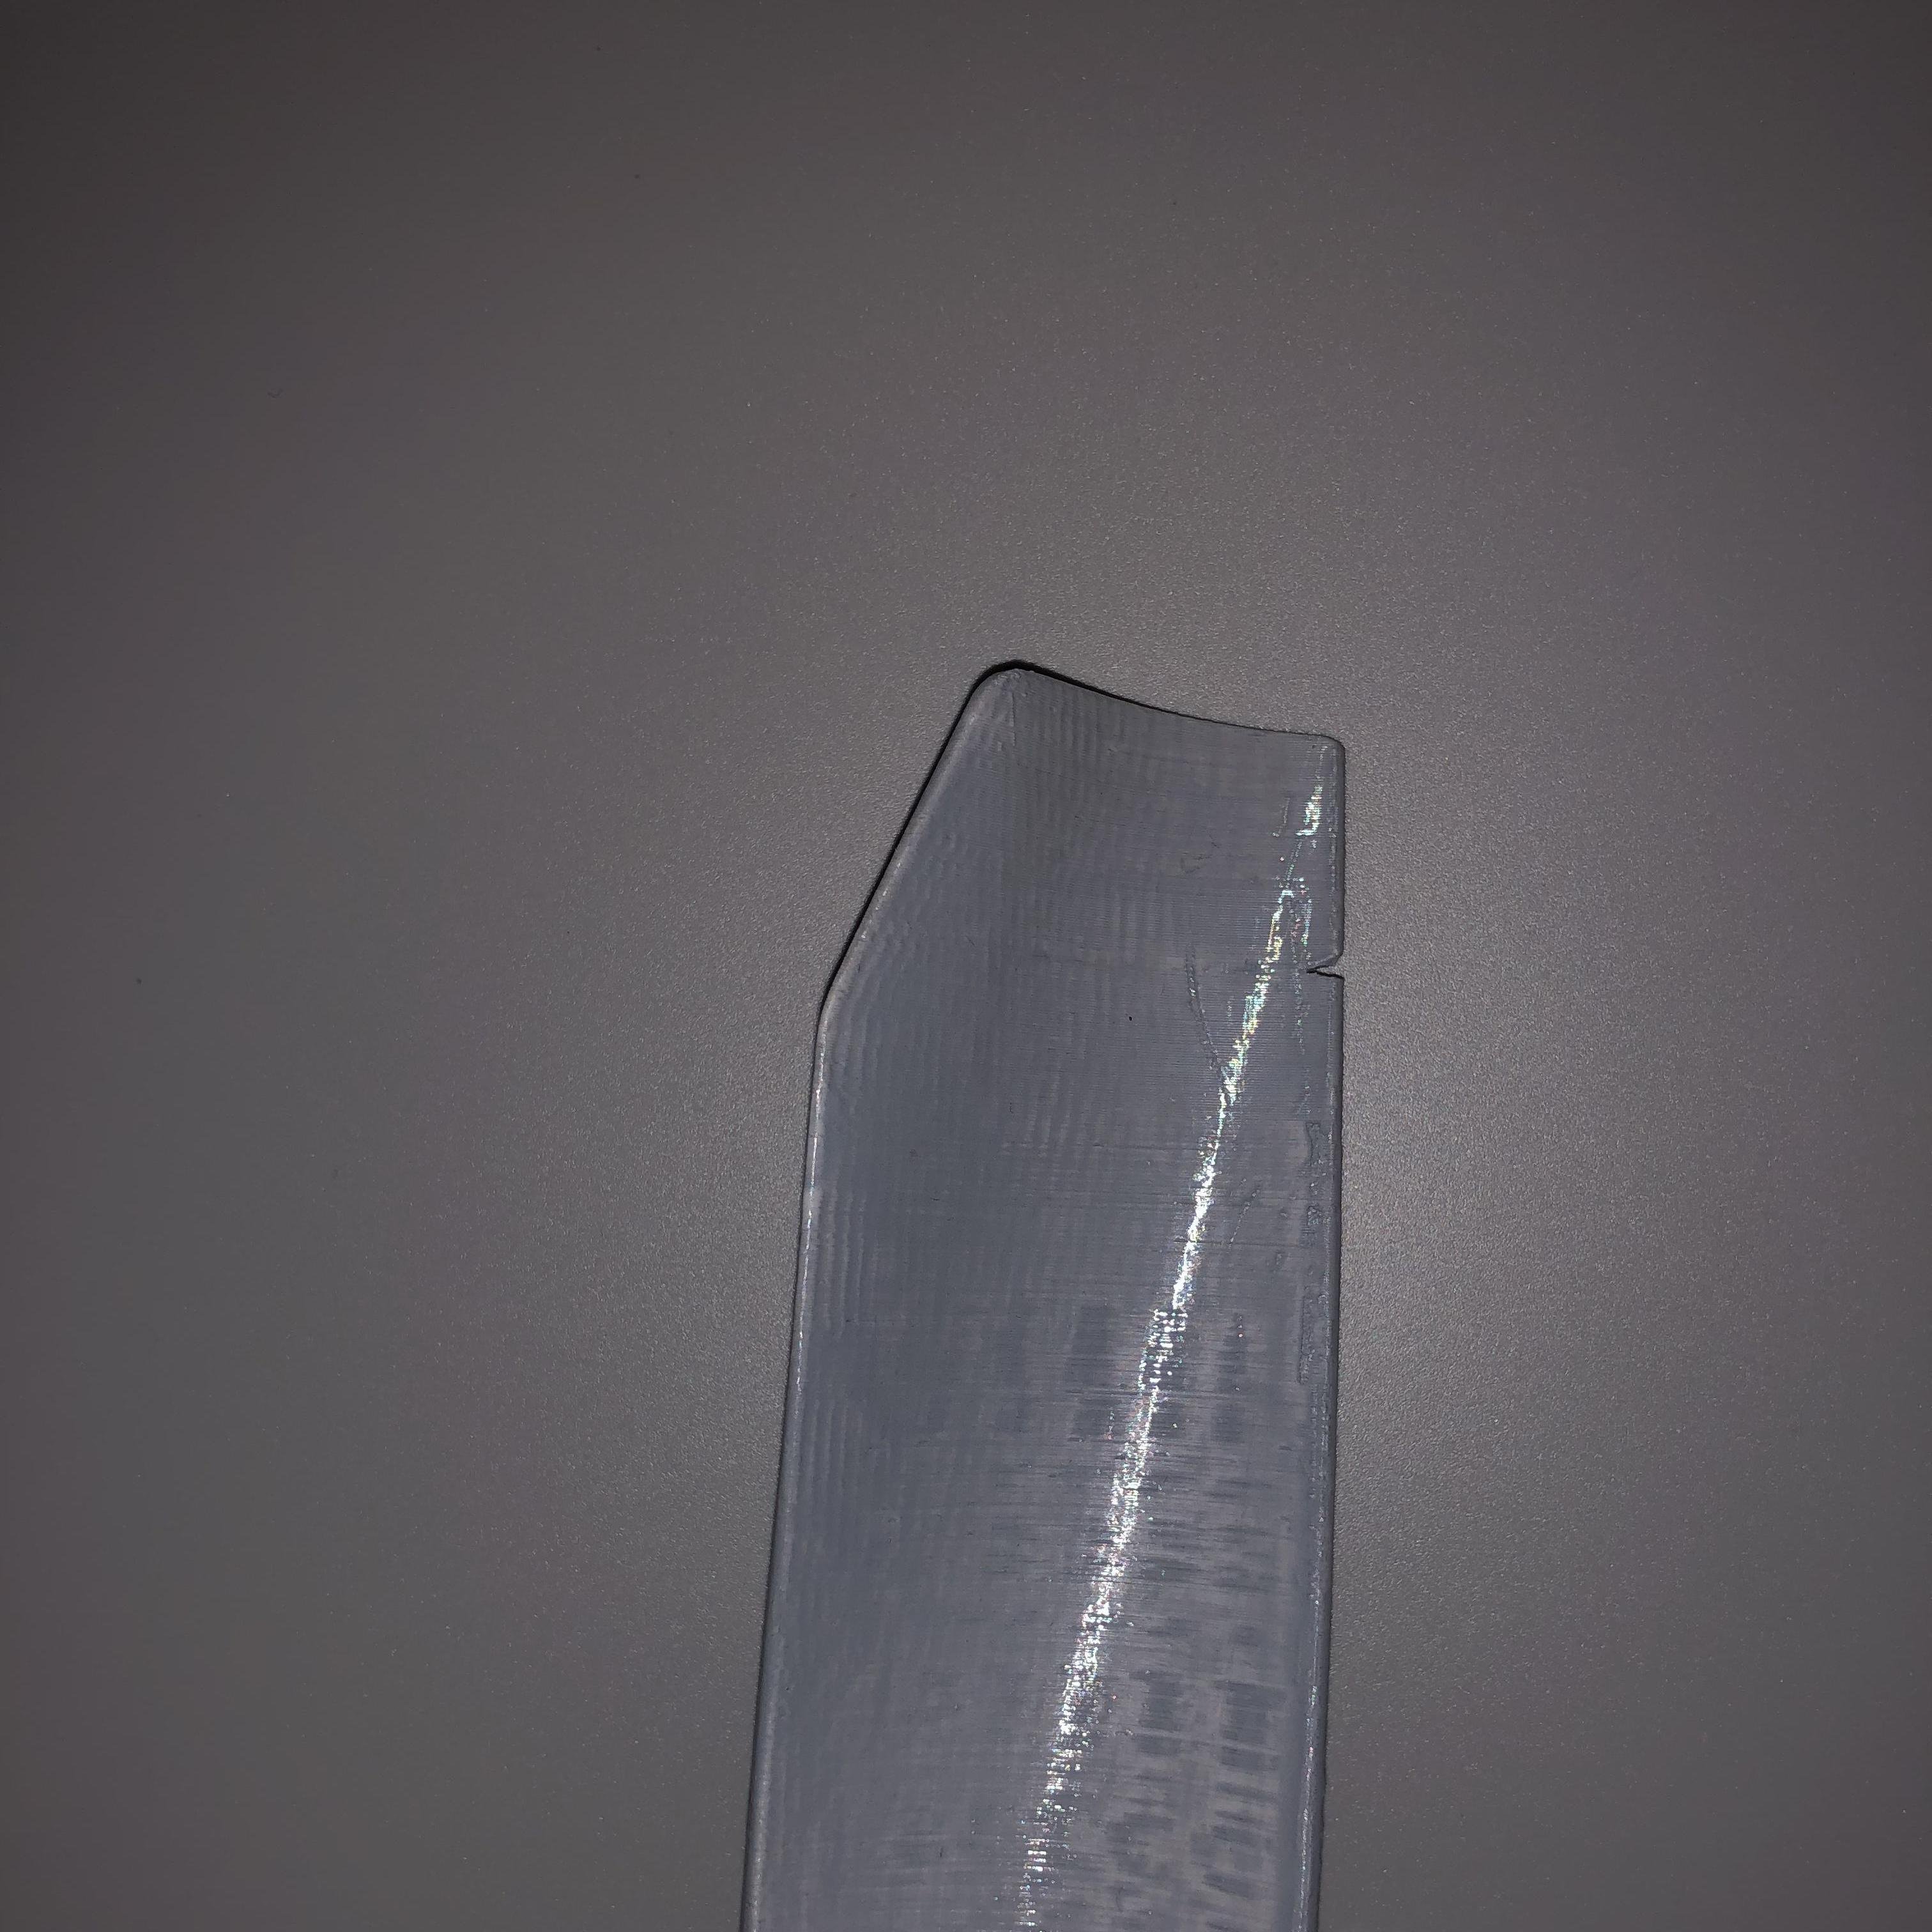groove: (1302, 938, 1350, 989)
